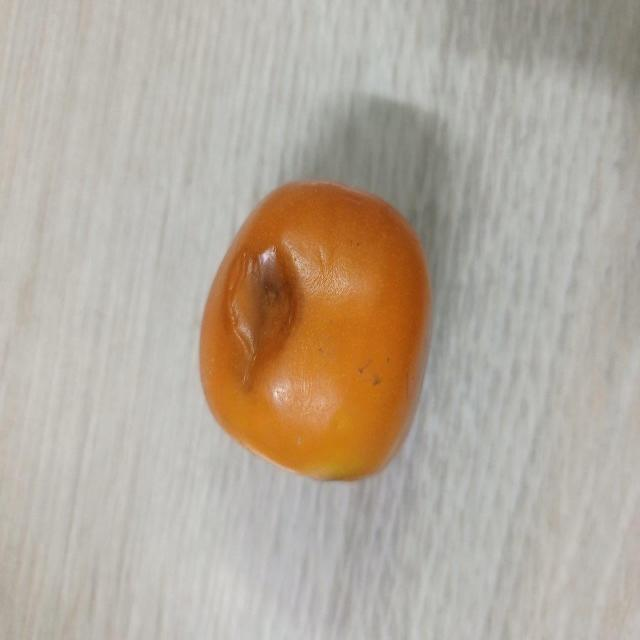Rotten: (199, 179, 435, 484)
